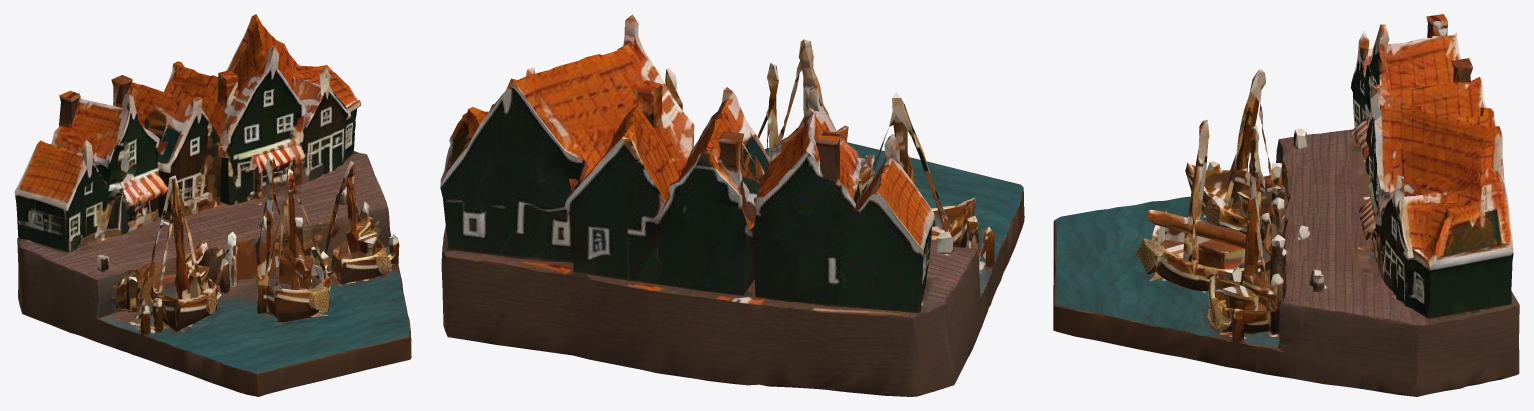
The model's file is volendam.glb.
The picture shows the model from 3 angles, left to right: view 1: azimuth 30°, elevation 25°; view 2: azimuth 150°, elevation 25°; view 3: azimuth 270°, elevation 25°; orthographic projection. The views are drawn at different scales.
Visible parts, largest first — view 1: logan-textured.obj; view 2: logan-textured.obj; view 3: logan-textured.obj.
Boxes of the visible parts, x1=… form: logan-textured.obj: x1=14, y1=14, x2=411, y2=396; logan-textured.obj: x1=440, y1=14, x2=1024, y2=396; logan-textured.obj: x1=1053, y1=14, x2=1519, y2=396.
Bounding box in the file's own units: 1 × 0.5637 × 0.9649.
Materials: 1 (1 with a texture image).
